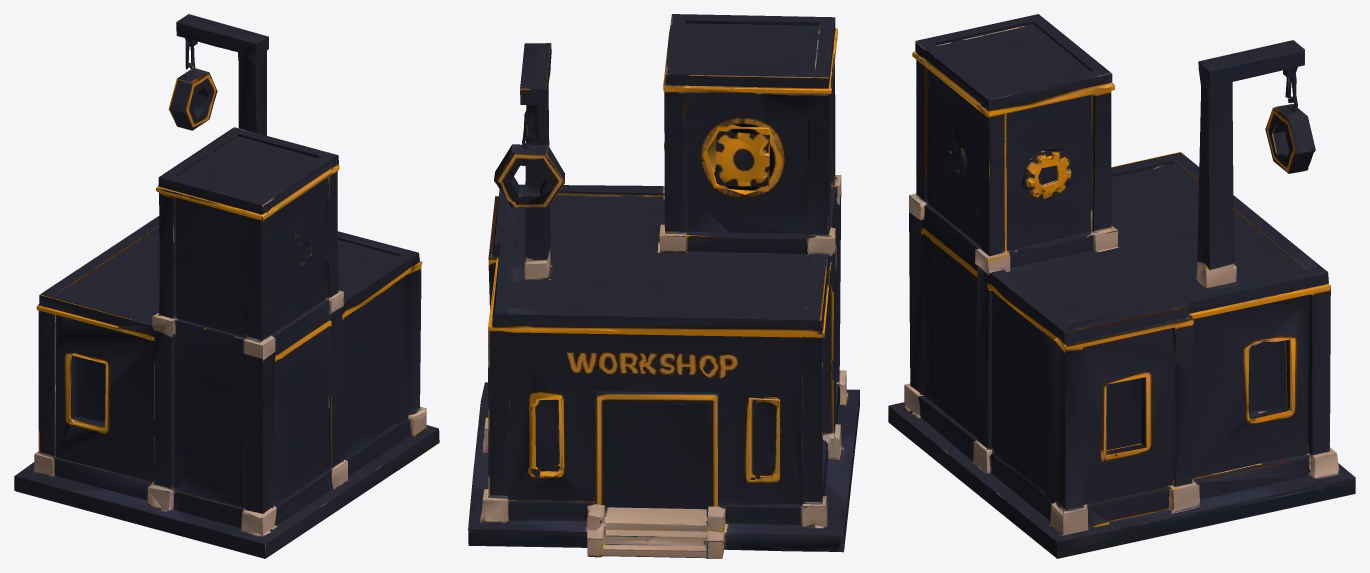
File: workshop.glb
The picture shows the model from 3 angles, left to right: view 1: azimuth 30°, elevation 25°; view 2: azimuth 150°, elevation 25°; view 3: azimuth 270°, elevation 25°; orthographic projection. The views are drawn at different scales.
Parts seen in each view (by area): view 1: body_workshop; view 2: body_workshop; view 3: body_workshop.
Part boxes in pixels (x1,y1,x2,y2): body_workshop: (14,14,439,558); body_workshop: (468,14,859,558); body_workshop: (888,14,1355,558).
Size of the model in its own units: 678 by 677 by 662.
Materials: 1 (1 with a texture image).
